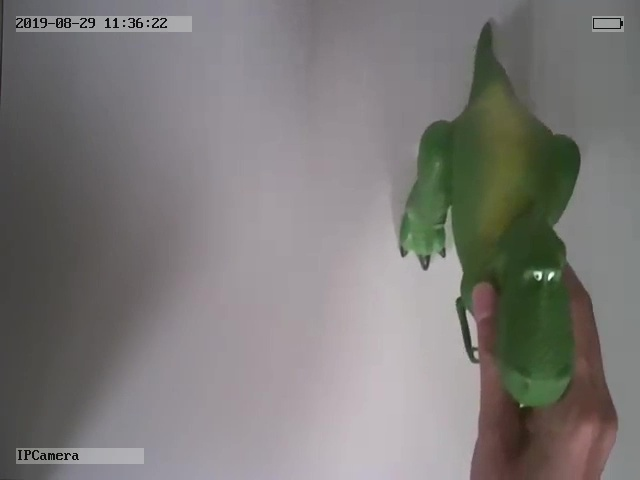rex: (398, 20, 582, 409)
